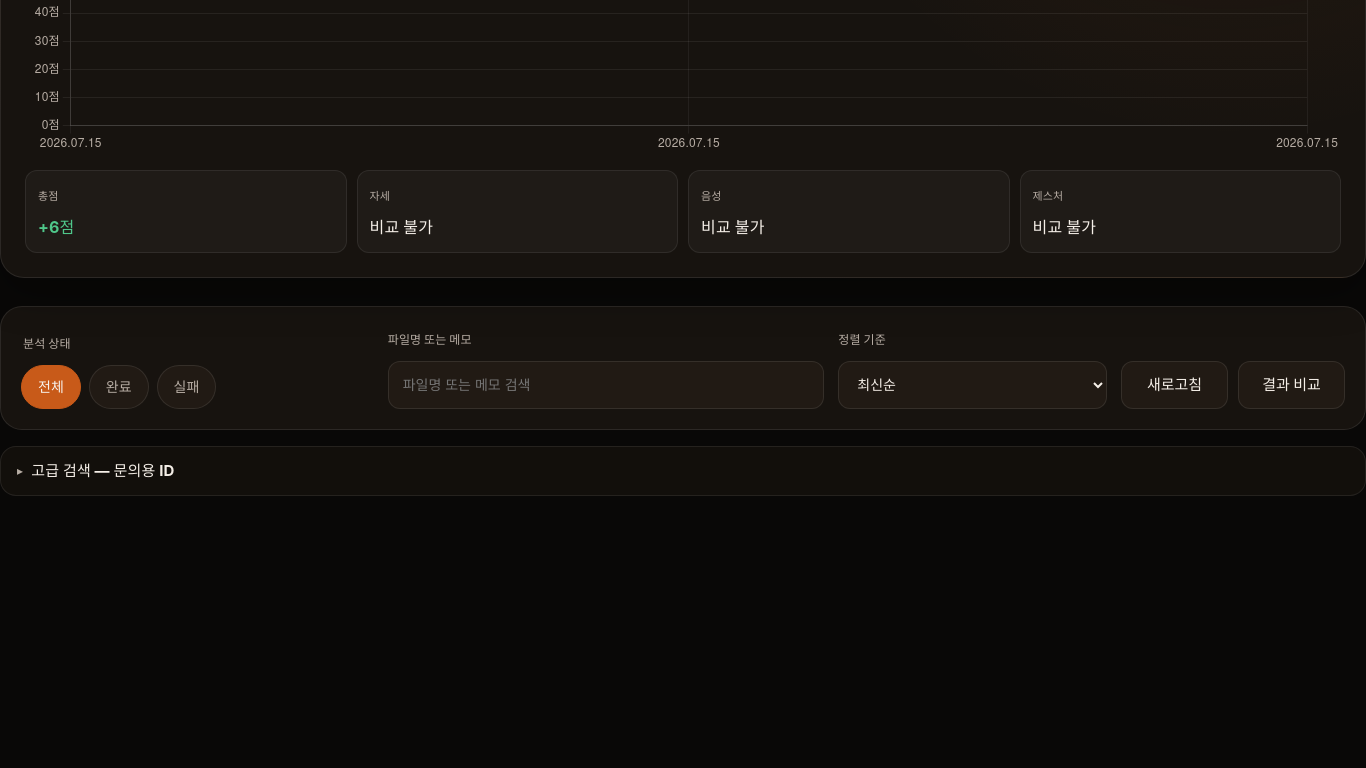
ResultListPage › searches only by filename or memo through the basic search box
(page scrolled)
Type "demo" into the search field with placeholder "파일명 또는 메모 검색".
click(606, 385); type("demo")  # box left=388, top=361, right=824, bottom=409
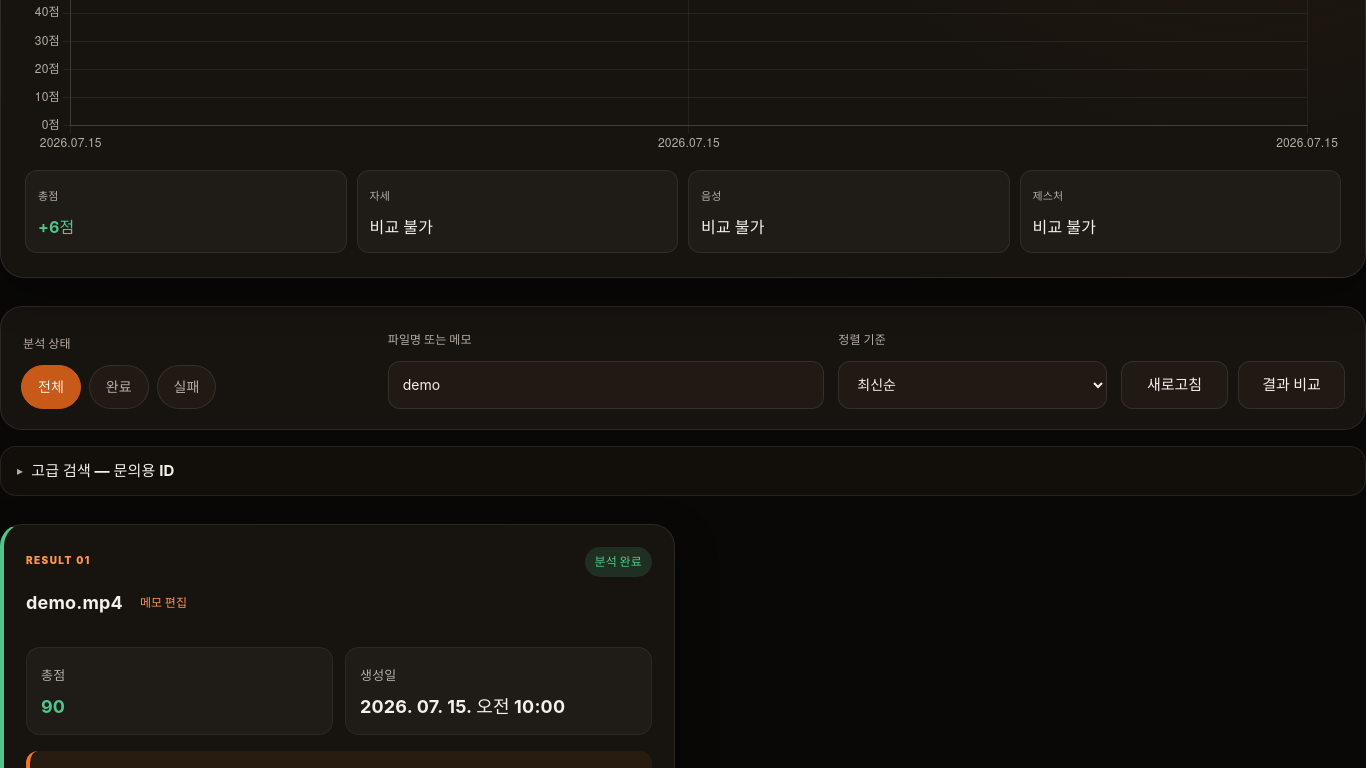
Expected: the heading "demo.mp4" is shown, left=26, top=590, right=123, bottom=616
